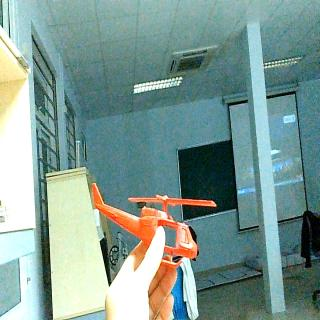Helicopter: (92, 180, 216, 266)
